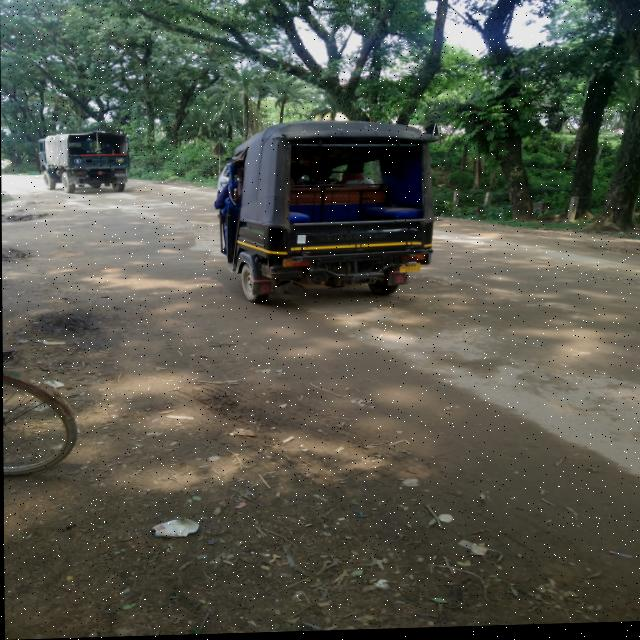plate: (398, 265, 422, 276), (114, 174, 127, 177)
